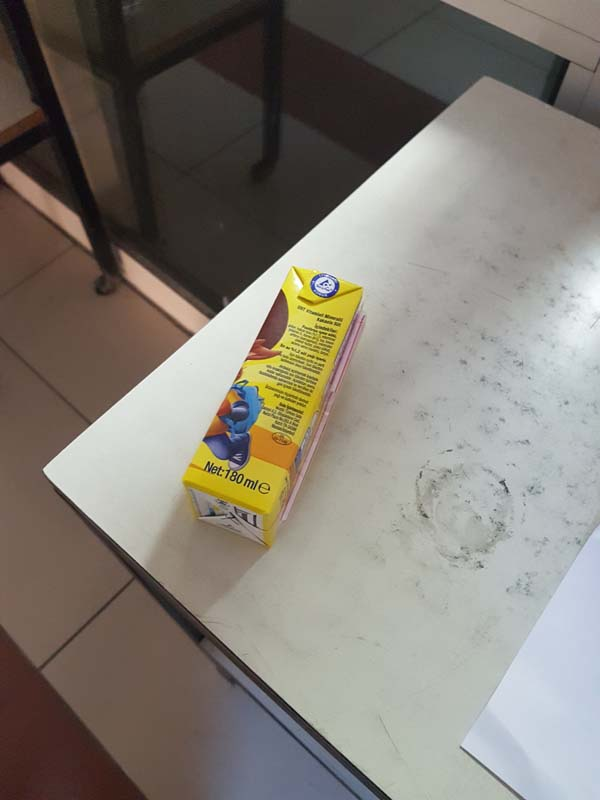nesquick200ml: (179, 260, 385, 550)
